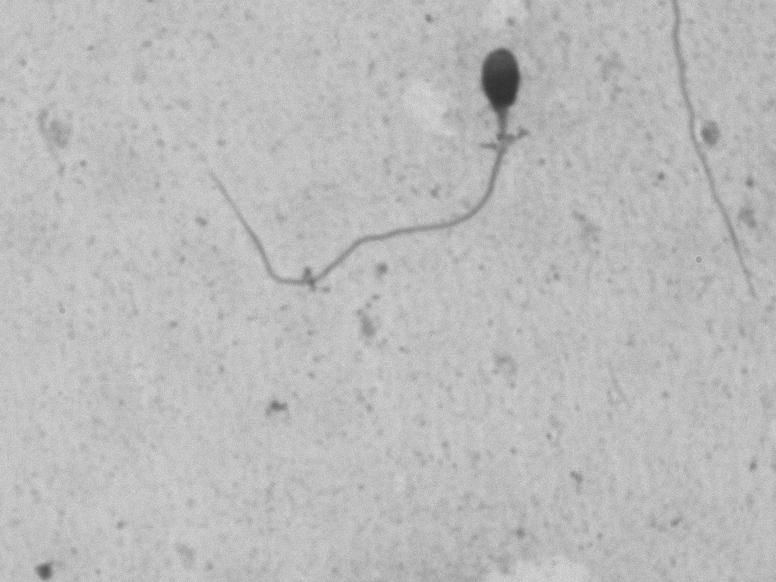Normal: (161, 25, 557, 292)
